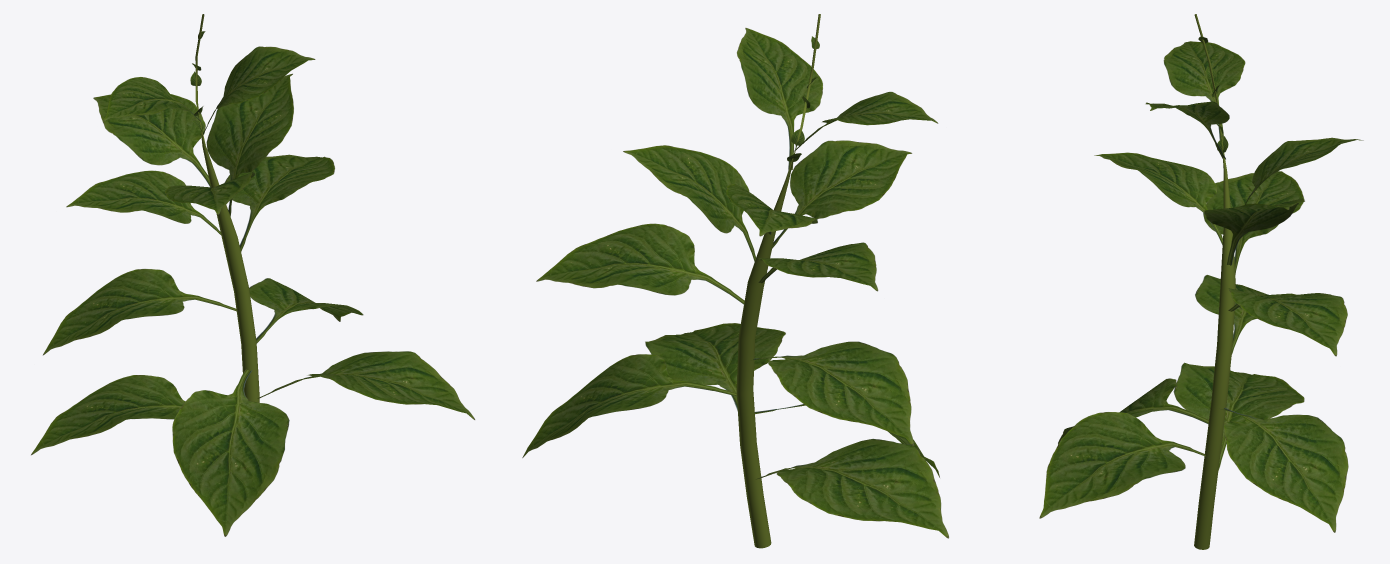
File: bellpepper_step3-transformed.glb
3 renders of one model, left to right at view 1: azimuth 30°, elevation 25°; view 2: azimuth 150°, elevation 25°; view 3: azimuth 270°, elevation 25°, orthographic. The views are drawn at different scales.
Parts seen in each view (by area): view 1: result2; view 2: result2; view 3: result2.
Part boxes in pixels (left/top/right/bottom): result2: left=31, top=14, right=475, bottom=536; result2: left=522, top=14, right=948, bottom=548; result2: left=1039, top=14, right=1363, bottom=549.
Bounding box in the file's own units: 7.13 × 8.81 × 5.77.
2 materials, 2 textured.
